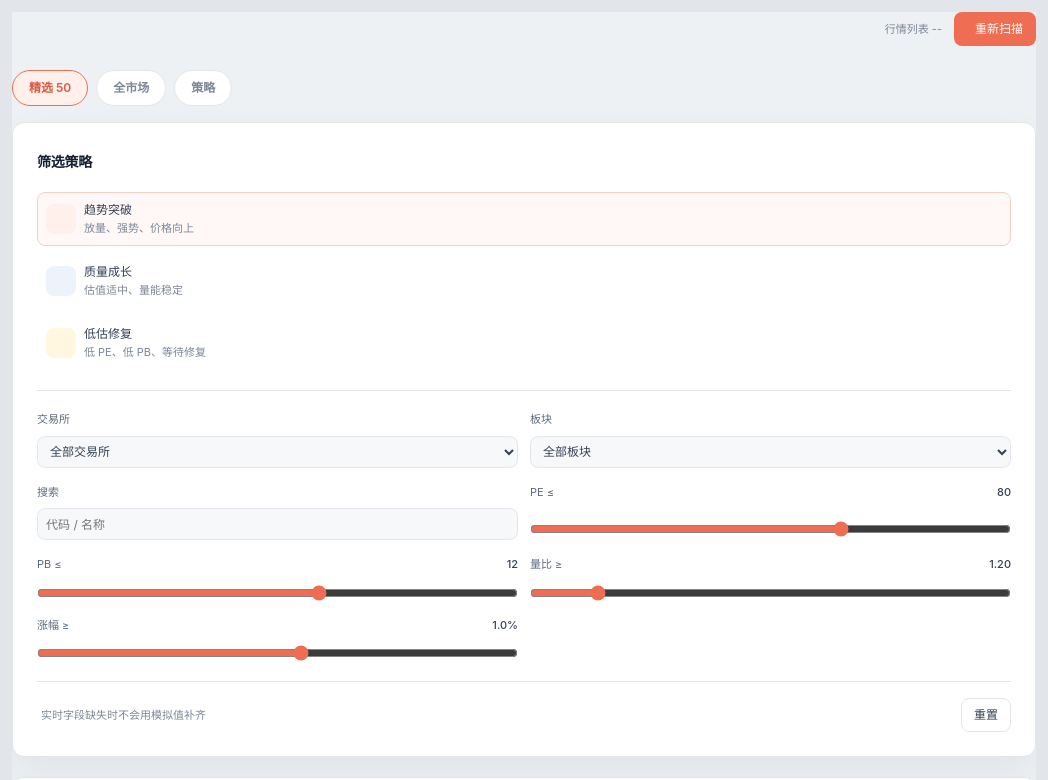
Test: ViewScreener › 策略 tab：默认隐藏，点击后显示策略面板并加载策略列表
The width and height of the screenshot is (1048, 780).
Expected: the text "策略选股" is not shown
Click the button "策略": coordinates (203, 88) [174,70,232,106]
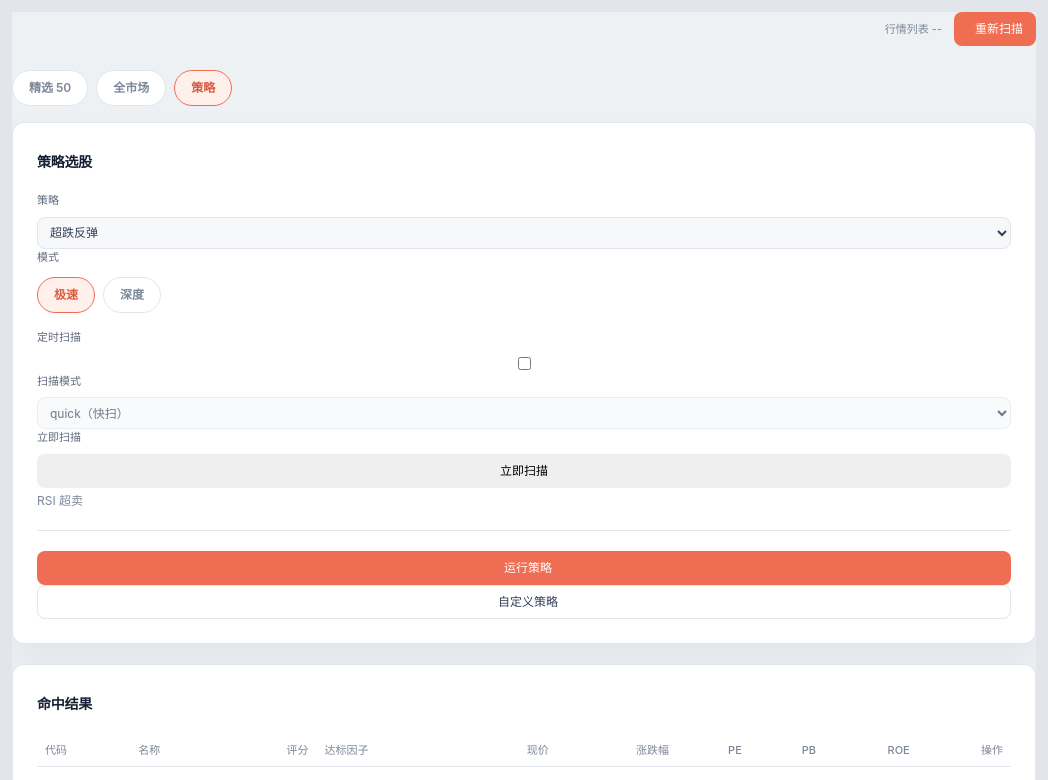
Expected: the text "策略选股" is shown, [37,151,92,172]
